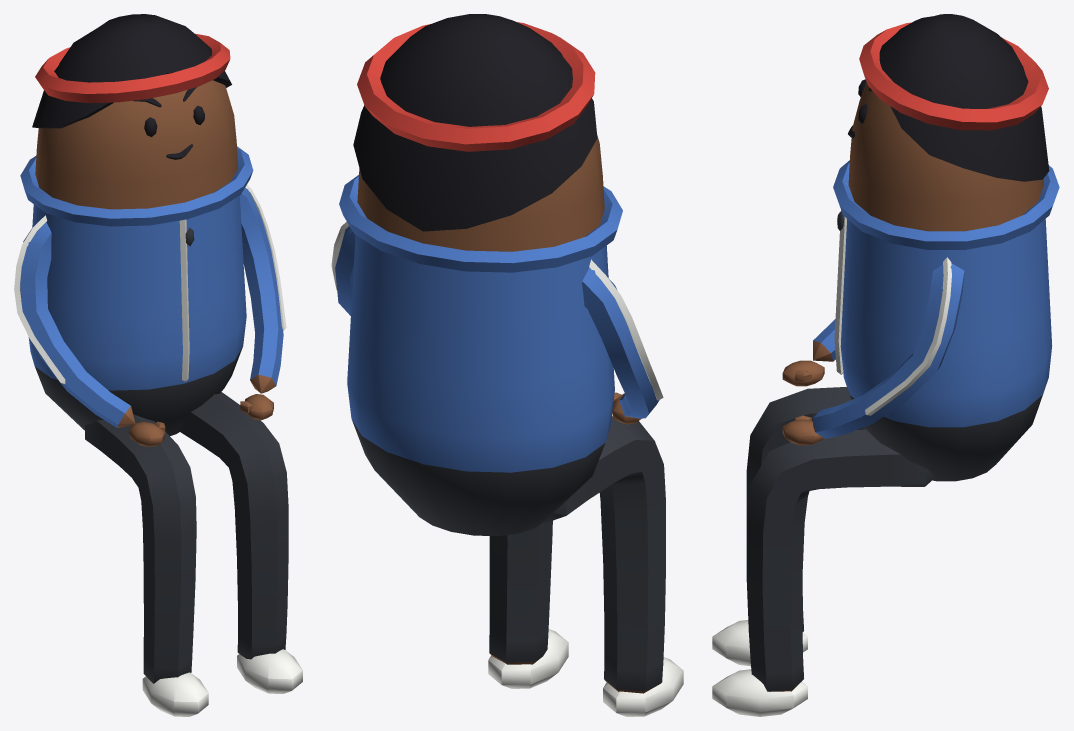
File: PasajeroDeportista.fbx
The picture shows the model from 3 angles, left to right: view 1: azimuth 30°, elevation 25°; view 2: azimuth 150°, elevation 25°; view 3: azimuth 270°, elevation 25°; orthographic projection. The views are drawn at different scales.
Parts seen in each view (by area): view 1: PasajeroDeportista; view 2: PasajeroDeportista; view 3: PasajeroDeportista.
Part boxes in pixels (x1,y1,x2,y2): PasajeroDeportista: (14,14,302,716); PasajeroDeportista: (331,14,683,716); PasajeroDeportista: (712,14,1059,716).
Size of the model in its own units: 2.17 by 4.94 by 2.35.
Materials: 1 (1 with a texture image).
